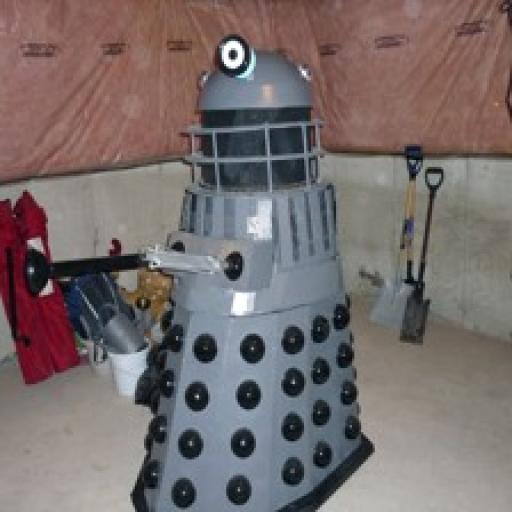dalek: (21, 31, 377, 512)
